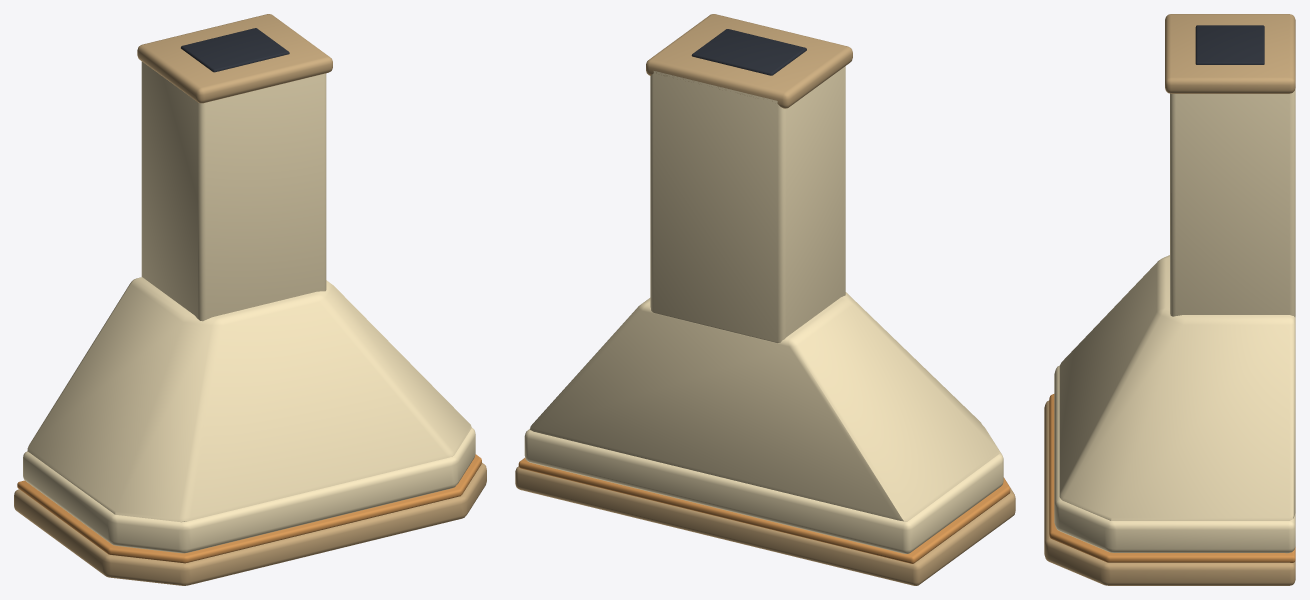
File: coifa_piramide_creme.glb
3 renders of one model, left to right at view 1: azimuth 30°, elevation 25°; view 2: azimuth 150°, elevation 25°; view 3: azimuth 270°, elevation 25°, orthographic. The views are drawn at different scales.
Parts seen in each view (by area): view 1: coifa_piramide_creme; view 2: coifa_piramide_creme; view 3: coifa_piramide_creme.
Boxes of the visible parts, left/top/right/bottom form: coifa_piramide_creme: left=14, top=14, right=486, bottom=585; coifa_piramide_creme: left=515, top=14, right=1015, bottom=585; coifa_piramide_creme: left=1044, top=14, right=1295, bottom=585.
Bounding box in the file's own units: 0.9 × 0.989 × 0.5.
Materials: 2 (1 with a texture image).
